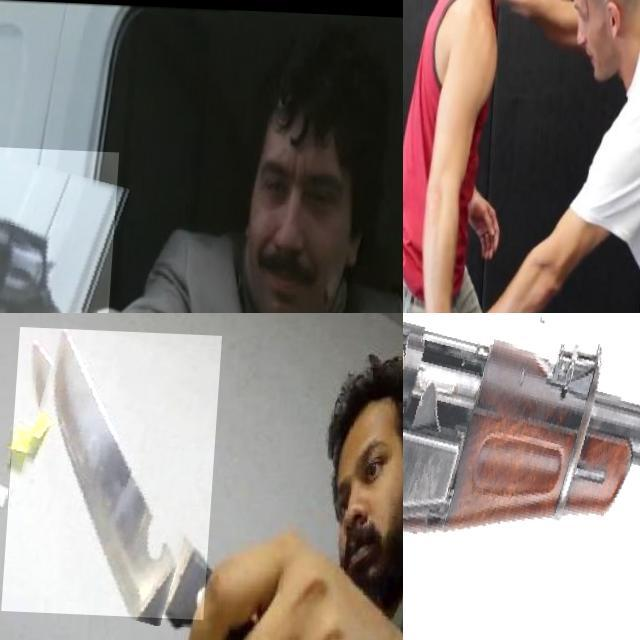-: (9, 326, 226, 616)
gun-knife-thesis - v11 Yolov5 augmented: (403, 313, 640, 640), (0, 141, 126, 313)
